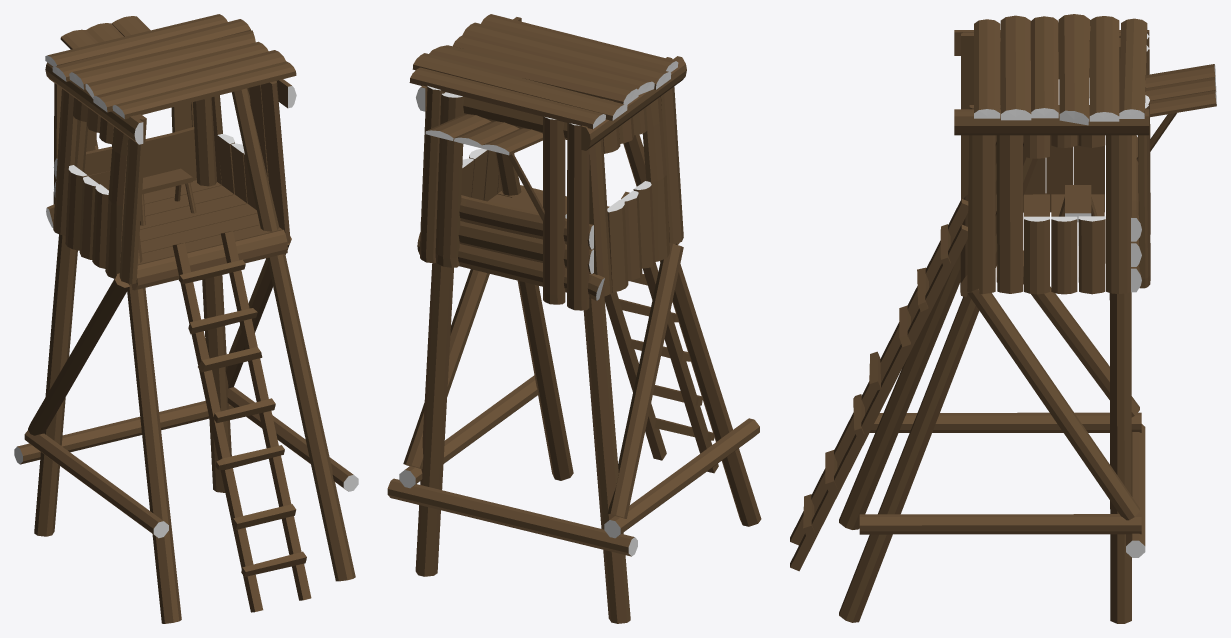
The model's file is SM_Deerstand.fbx.
3 renders of one model, left to right at view 1: azimuth 30°, elevation 25°; view 2: azimuth 150°, elevation 25°; view 3: azimuth 270°, elevation 25°, orthographic. The views are drawn at different scales.
Visible parts, largest first — view 1: Cube.012; view 2: Cube.012; view 3: Cube.012.
Boxes of the visible parts, x1,y1,x2,y2 form: Cube.012: (14,14,358,623); Cube.012: (387,14,761,623); Cube.012: (790,14,1216,623).
Size of the model in its own units: 143 by 290 by 217.
